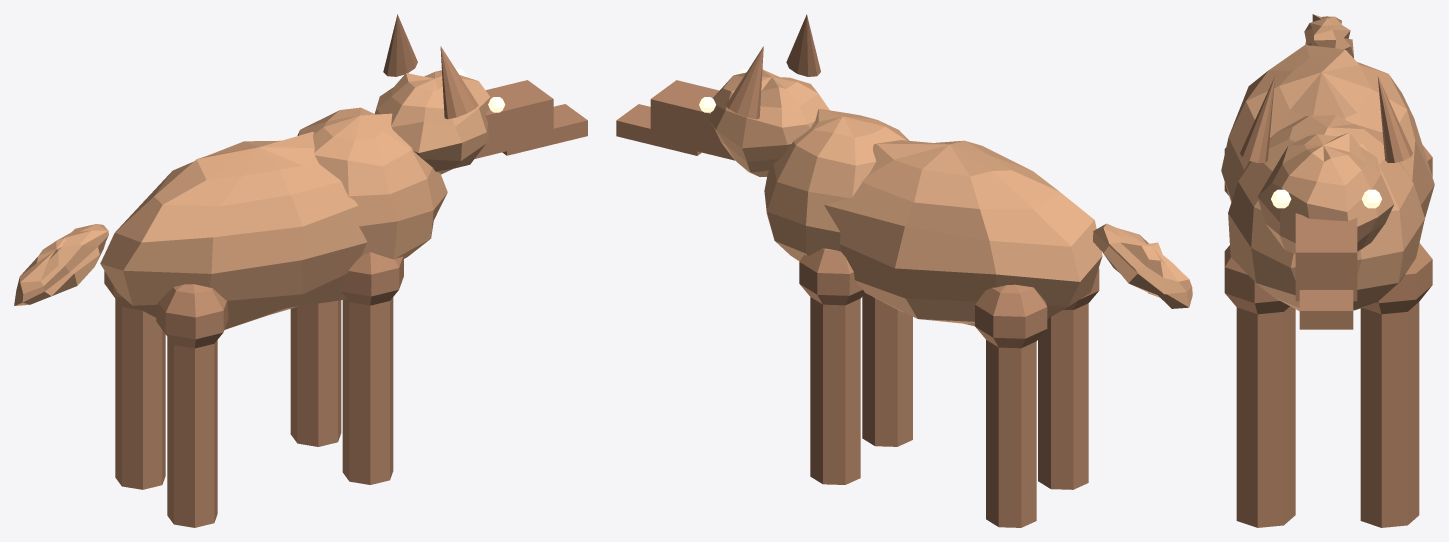
Rendered from fox.glb.
3 views of the same model, side by side, from view 1: azimuth 30°, elevation 25°; view 2: azimuth 150°, elevation 25°; view 3: azimuth 270°, elevation 25° (orthographic). The views are drawn at different scales.
Visible parts, largest first — view 1: body, chest, legFR, legBR, legBL, legFL, skull, tail0, snoutm, hip.003, hip.001, ear (+2 smaller); view 2: body, chest, legBL, legFL, legBR, legFR, skull, tail0, snoutm, hip.002, hip, ear.001 (+2 smaller); view 3: chest, legFL, legFR, body, skull, snoutm, jaw, hip, hip.001, ear, ear.001, tail0 (+2 smaller).
Part boxes in pixels (box(x1,y1,x2,y2)): body: box(100, 132, 367, 329); chest: box(297, 107, 447, 259); legFR: box(342, 297, 393, 484); legBR: box(167, 337, 217, 527); legBL: box(115, 299, 165, 489); legFL: box(290, 300, 341, 446); skull: box(374, 70, 490, 174); tail0: box(14, 224, 108, 305); snoutm: box(475, 80, 553, 158); hip.003: box(156, 284, 228, 348); hip.001: box(341, 252, 403, 305); ear: box(440, 46, 478, 119); body: box(824, 140, 1102, 326); chest: box(764, 109, 909, 261); legBL: box(986, 340, 1036, 527); legFL: box(810, 297, 860, 484); legBR: box(1038, 303, 1088, 489); legFR: box(862, 293, 912, 446); skull: box(709, 69, 829, 176); tail0: box(1093, 223, 1192, 308); snoutm: box(650, 80, 734, 160); hip.002: box(975, 284, 1047, 348); hip: box(799, 248, 864, 305); ear.001: box(725, 46, 763, 119); chest: box(1228, 115, 1424, 310); legFL: box(1360, 302, 1419, 527); legFR: box(1236, 306, 1295, 527); body: box(1221, 45, 1434, 217); skull: box(1257, 132, 1394, 253); snoutm: box(1295, 213, 1357, 301); jaw: box(1299, 290, 1353, 329); hip: box(1362, 243, 1432, 314); hip.001: box(1224, 245, 1289, 314); ear: box(1240, 76, 1275, 162); ear.001: box(1377, 76, 1412, 162); tail0: box(1304, 14, 1353, 58).
Size of the model in its own units: 1.71 by 1.18 by 0.4729.
